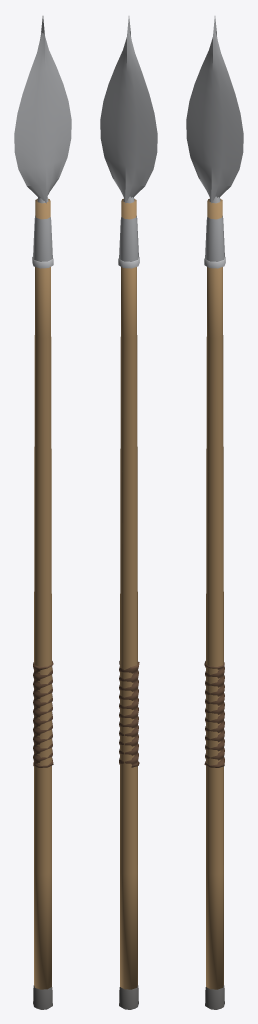
Rendered from spear.glb.
The picture shows the model from 3 angles, left to right: view 1: azimuth 30°, elevation 25°; view 2: azimuth 150°, elevation 25°; view 3: azimuth 330°, elevation 25°; orthographic projection.
Visible parts, largest first — view 1: spear; view 2: spear; view 3: spear.
Part boxes in pixels (x1,y1,x2,y2): spear: (14, 16, 71, 1009); spear: (100, 16, 157, 1009); spear: (186, 16, 243, 1009).
Size of the model in its own units: 0.2974 by 4.94 by 0.0991.
